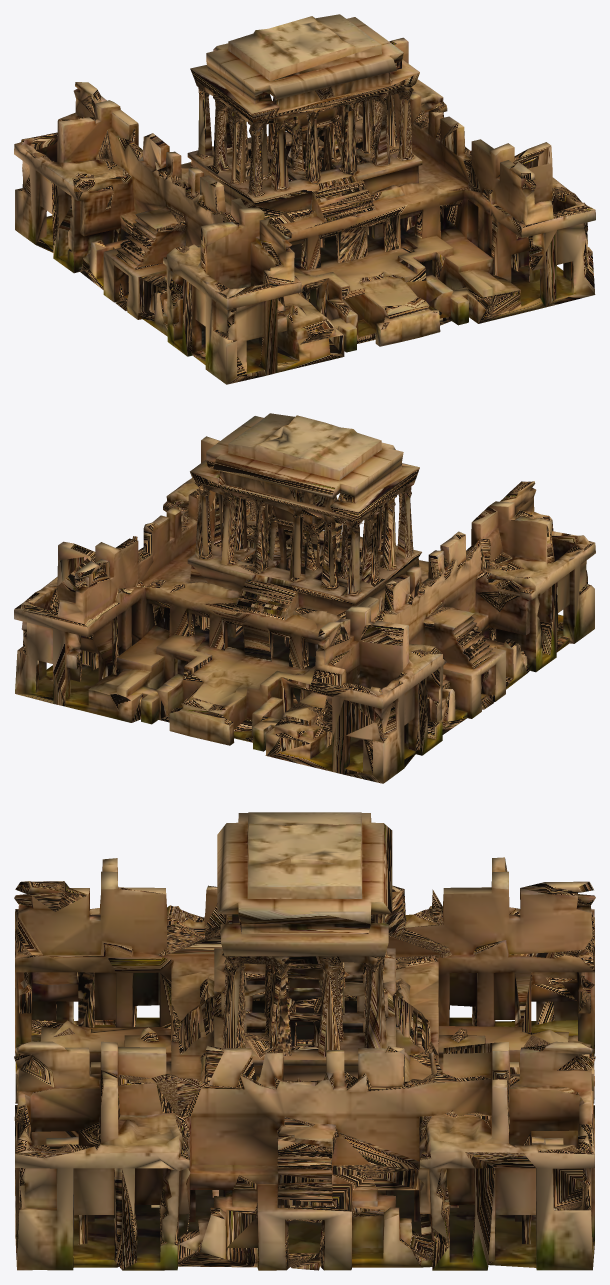
Rendered from A_very_large_ancient_.glb.
The picture shows the model from 3 angles, top to bottom: view 1: azimuth 30°, elevation 25°; view 2: azimuth 150°, elevation 25°; view 3: azimuth 270°, elevation 25°; orthographic projection. The views are drawn at different scales.
Visible parts, largest first — view 1: A_very_large_ancient_; view 2: A_very_large_ancient_; view 3: A_very_large_ancient_.
Boxes of the visible parts, bbox=[...] form: A_very_large_ancient_: bbox=[14, 14, 595, 384]; A_very_large_ancient_: bbox=[14, 413, 595, 783]; A_very_large_ancient_: bbox=[14, 812, 595, 1270].
Bounding box in the file's own units: 1.9 × 1.11 × 1.9.
Materials: 1 (1 with a texture image).
